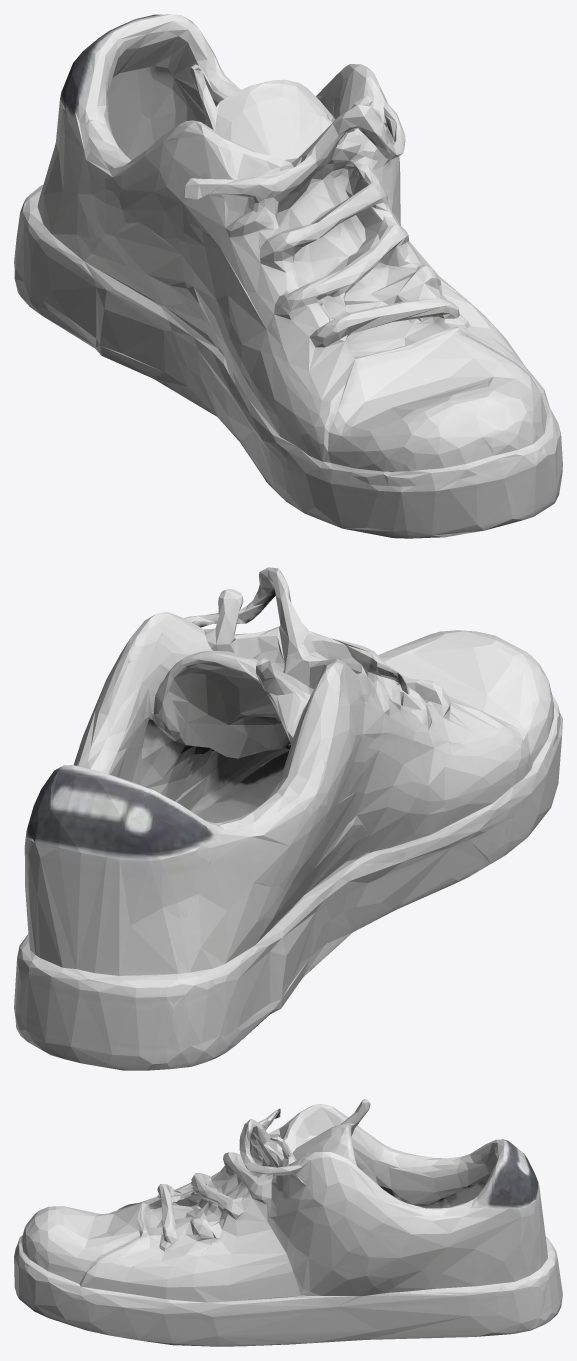
3 views of the same model, one above another, from view 1: azimuth 30°, elevation 25°; view 2: azimuth 150°, elevation 25°; view 3: azimuth 270°, elevation 25° (orthographic). The views are drawn at different scales.
Visible parts, largest first — view 1: geometry_0; view 2: geometry_0; view 3: geometry_0.
Boxes of the visible parts, x1,y1,x2,y2 form: geometry_0: (14,14,562,538); geometry_0: (14,567,562,1070); geometry_0: (14,1099,562,1346).
Size of the model in its own units: 0.34 by 0.4059 by 0.9993.
Materials: 1 (1 with a texture image).
